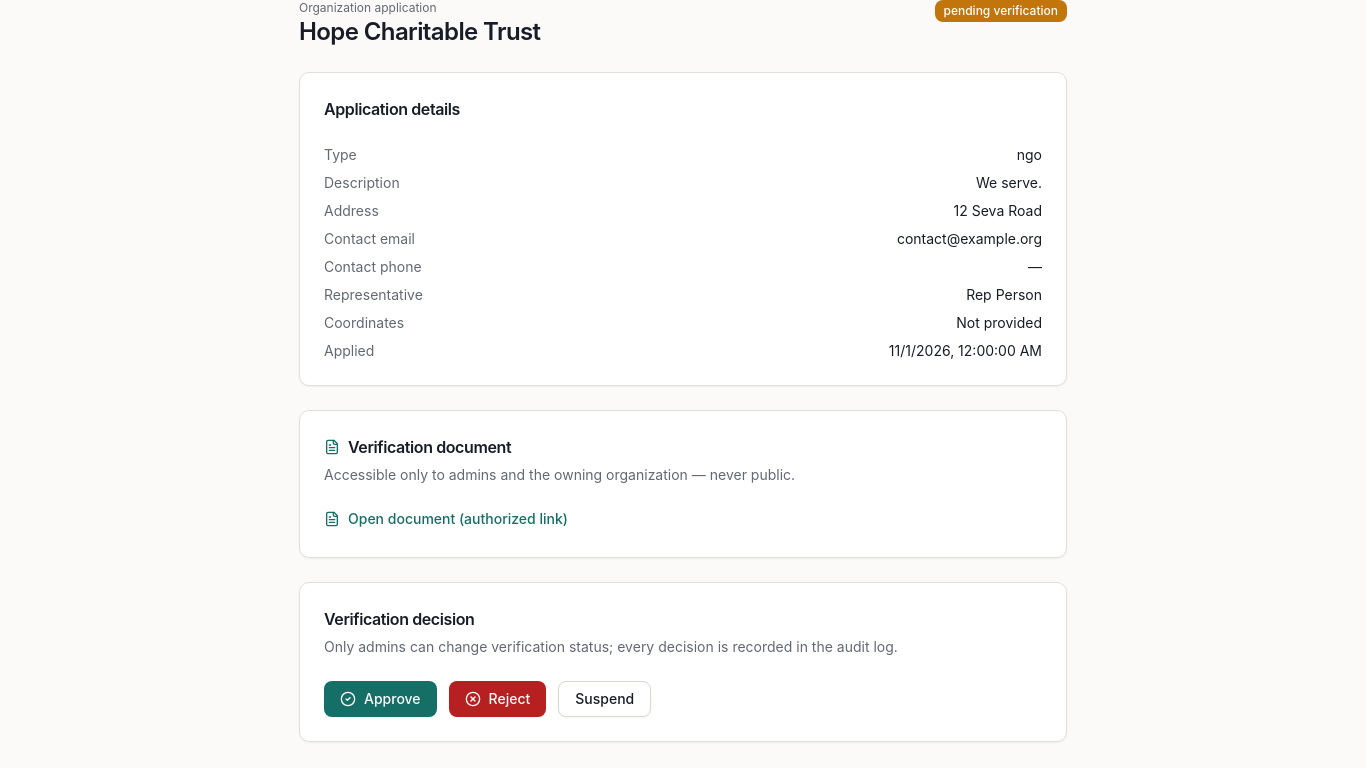
Scenario: AdminOrgDetailPage › approves without a reason and shows the updated status
Expected: the heading "Hope Charitable Trust" is shown, x1=299 y1=16 x2=540 y2=48
Click the button "Approve": click(380, 699) x1=324 y1=681 x2=437 y2=717
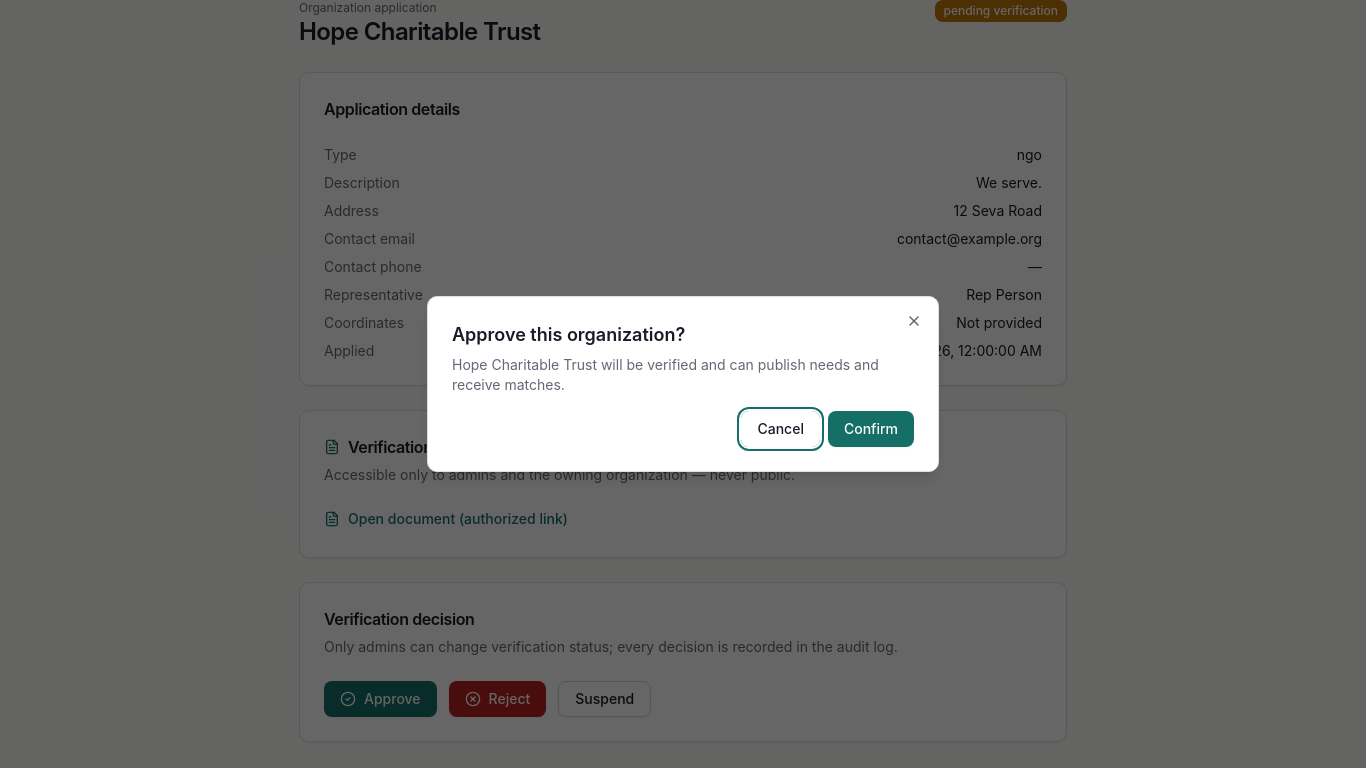
Click the button "Confirm": click(871, 429) x1=828 y1=411 x2=914 y2=447
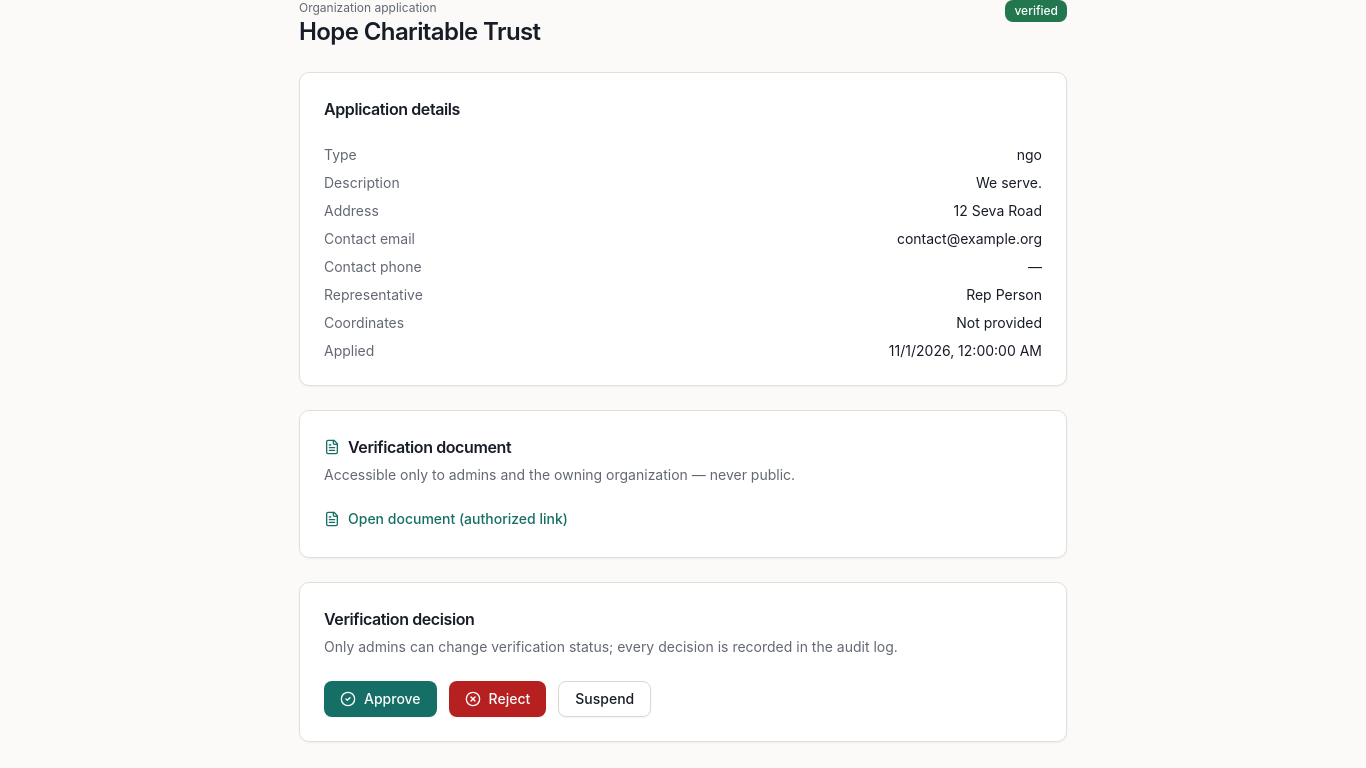
Expected: the text "verified" is shown, x1=1005 y1=0 x2=1067 y2=22
